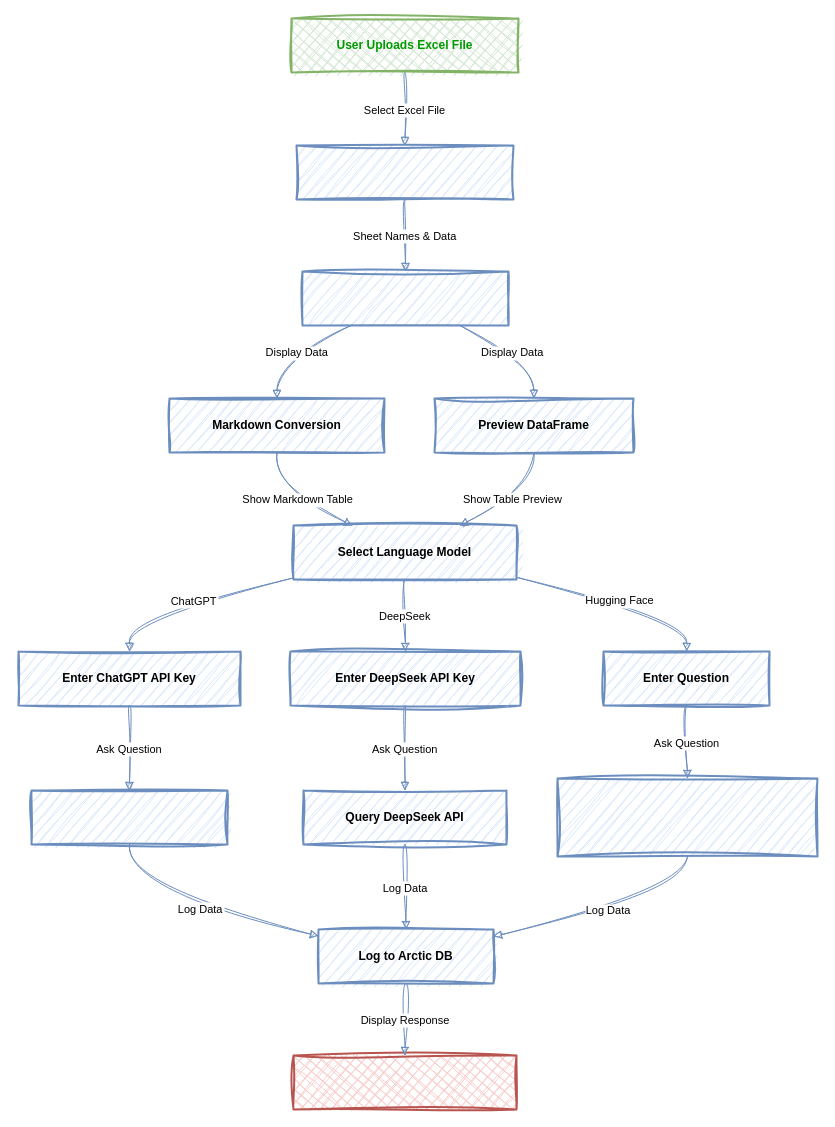
Some shapes in this 835 by 1127 pixel diagram are drawn without their labels. Here are the shapes that lost their labels. From the top down, the box of each, then its label:
(295, 144, 514, 200): Preprocess Excel Data
(301, 270, 509, 326): User Selects a Sheet
(30, 789, 228, 845): Query ChatGPT API
(556, 777, 818, 857): Query Hugging Face Pipeline
(292, 1054, 517, 1110): Show Response to User
